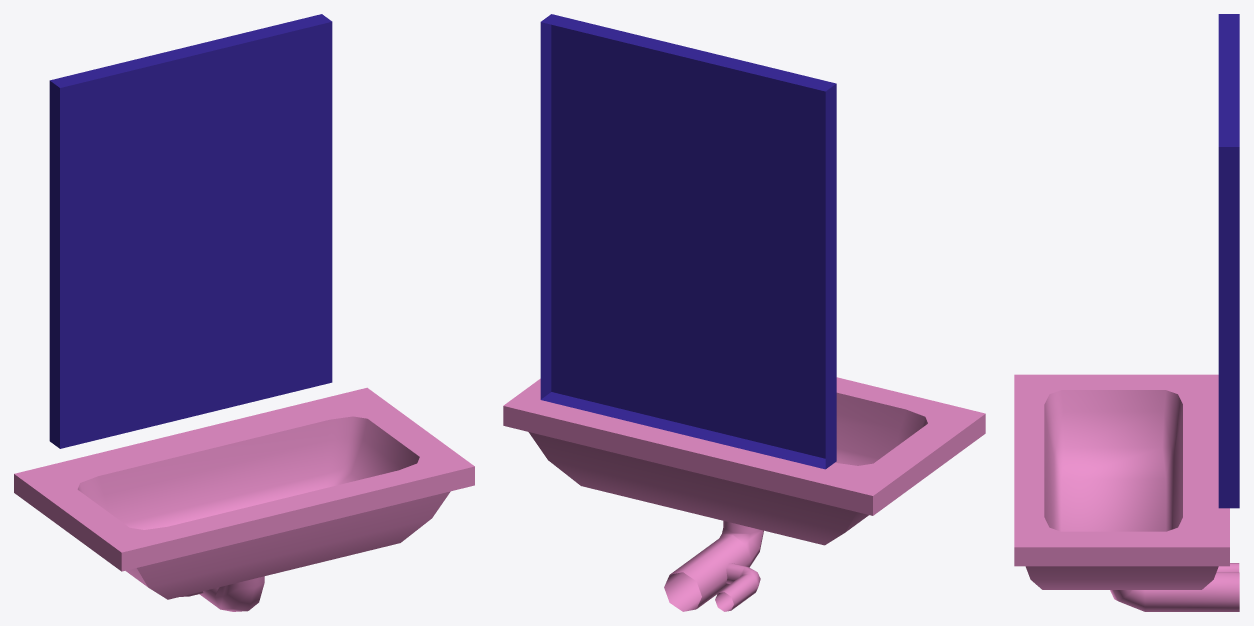
Rendered from Sink.fbx.
3 views of the same model, side by side, from view 1: azimuth 30°, elevation 25°; view 2: azimuth 150°, elevation 25°; view 3: azimuth 270°, elevation 25° (orthographic). The views are drawn at different scales.
Parts seen in each view (by area): view 1: Mirror, Sink; view 2: Mirror, Sink; view 3: Sink, Mirror.
Part boxes in pixels (<box>): Mirror: <box>49,14,332,448</box>; Sink: <box>14,387,474,611</box>; Mirror: <box>540,14,836,469</box>; Sink: <box>503,377,985,611</box>; Sink: <box>1014,374,1239,611</box>; Mirror: <box>1218,14,1239,508</box>.
Size of the model in its own units: 97.31 by 140 by 53.68.
